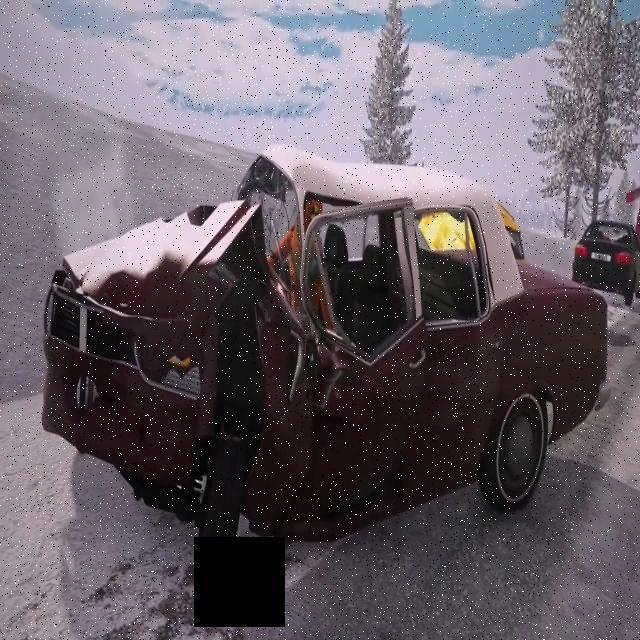vehicle: (53, 136, 629, 572)
